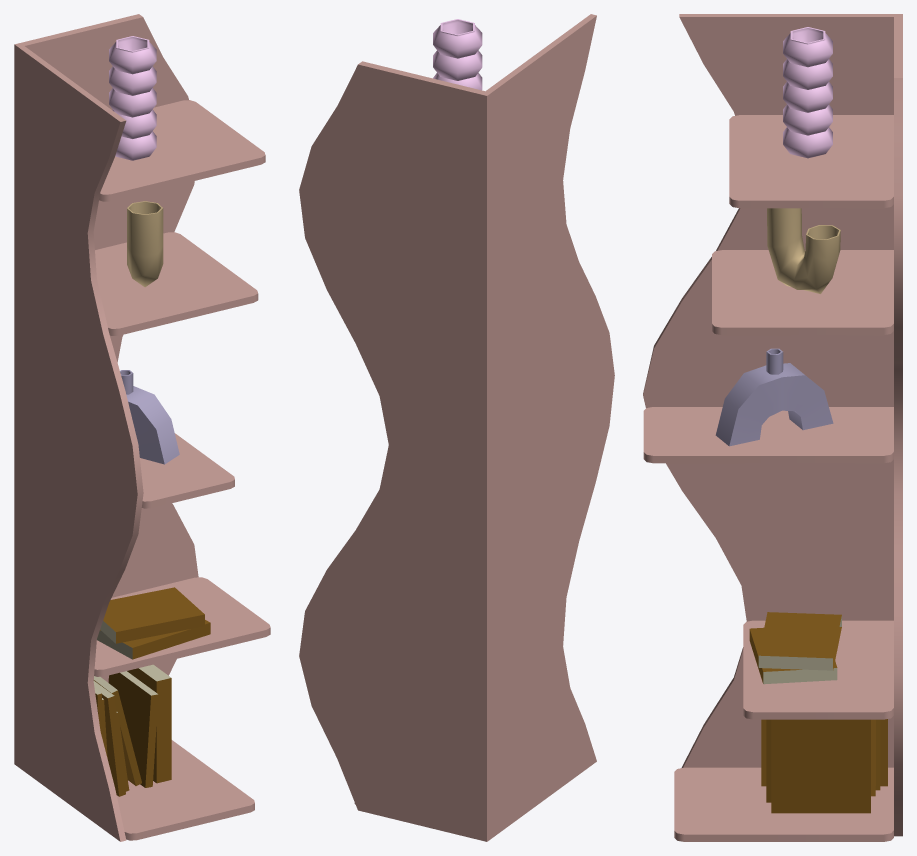
Rendered from SM_Corner_Shelf.fbx.
3 renders of one model, left to right at view 1: azimuth 30°, elevation 25°; view 2: azimuth 150°, elevation 25°; view 3: azimuth 270°, elevation 25°, orthographic. The views are drawn at different scales.
Parts seen in each view (by area): view 1: SM_Corner_Shelf; view 2: SM_Corner_Shelf; view 3: SM_Corner_Shelf.
Boxes of the visible parts, x1=… form: SM_Corner_Shelf: x1=14, y1=14, x2=270, y2=841; SM_Corner_Shelf: x1=299, y1=14, x2=614, y2=841; SM_Corner_Shelf: x1=643, y1=14, x2=902, y2=841.
Size of the model in its own units: 0.4882 by 1.86 by 0.5659.
